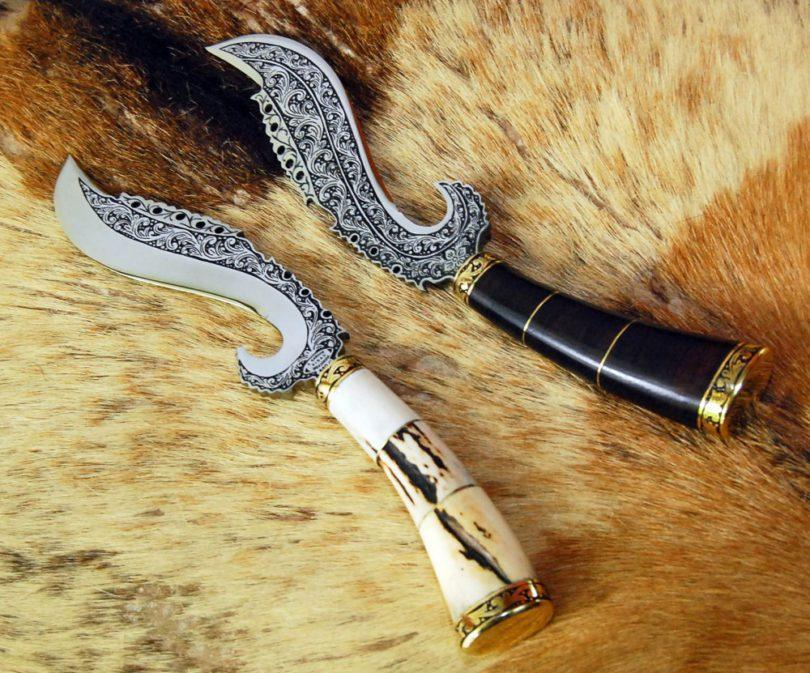facao: (52, 157, 546, 644), (208, 27, 780, 423)
